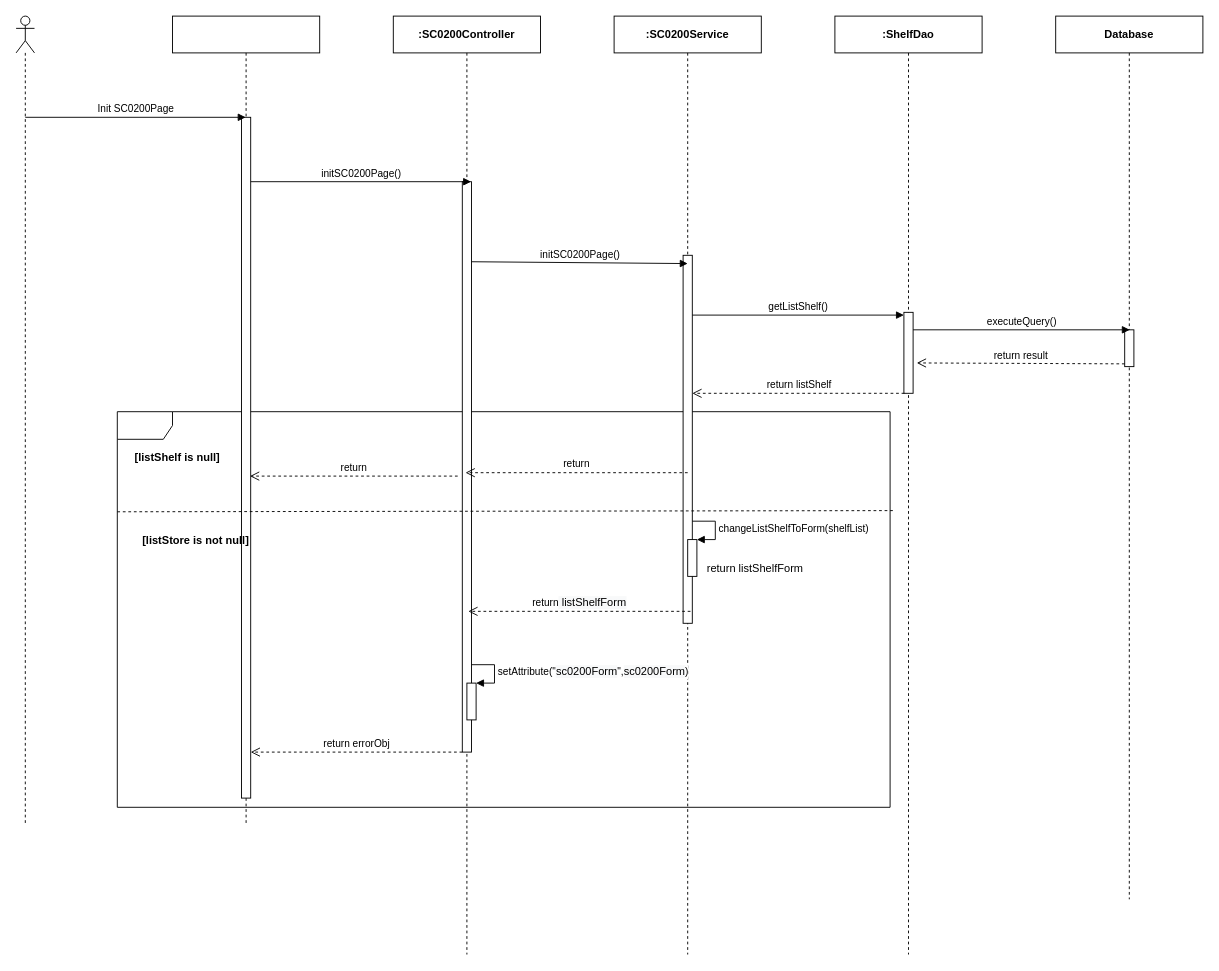
Image size: 1219x971. Some labels were removed from this diagram. Here are the shapes that lost their labels. From the top down, the box of each, then its label:
(172, 15, 320, 826): :SC0200Page
(116, 411, 890, 807): alt
